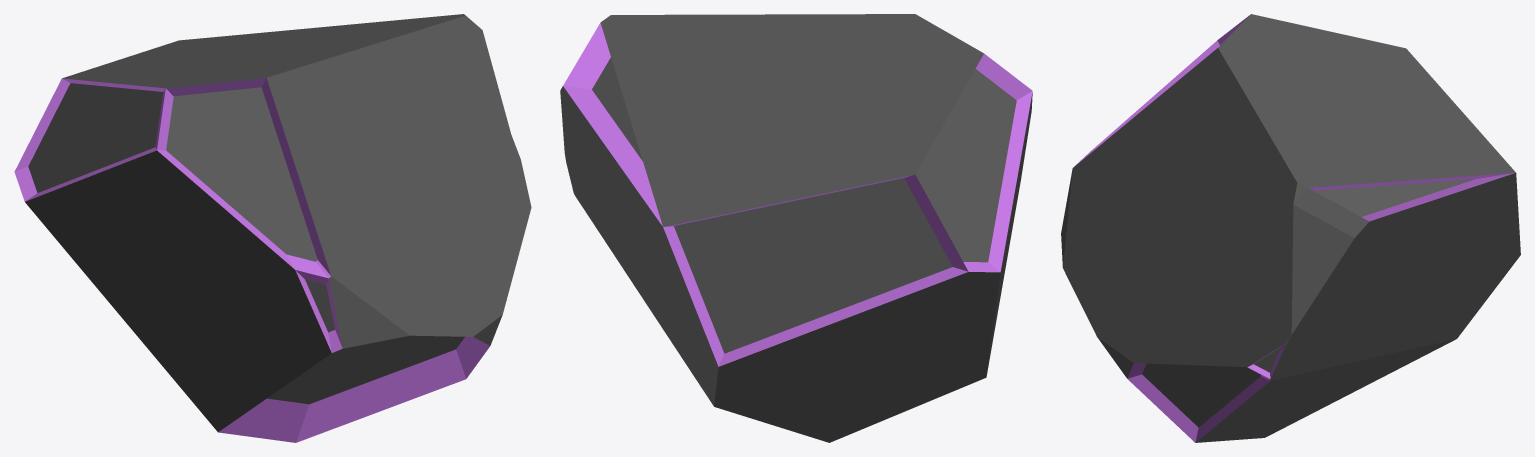
Rendered from lp_rock1.fbx.
3 views of the same model, side by side, from view 1: azimuth 30°, elevation 25°; view 2: azimuth 150°, elevation 25°; view 3: azimuth 270°, elevation 25° (orthographic). The views are drawn at different scales.
Parts seen in each view (by area): view 1: pSolid1; view 2: pSolid1; view 3: pSolid1.
Part boxes in pixels (<box>): pSolid1: <box>14,14,531,442</box>; pSolid1: <box>560,14,1032,442</box>; pSolid1: <box>1061,14,1520,442</box>.
Bounding box in the file's own units: 1.8 × 1.51 × 1.72.
